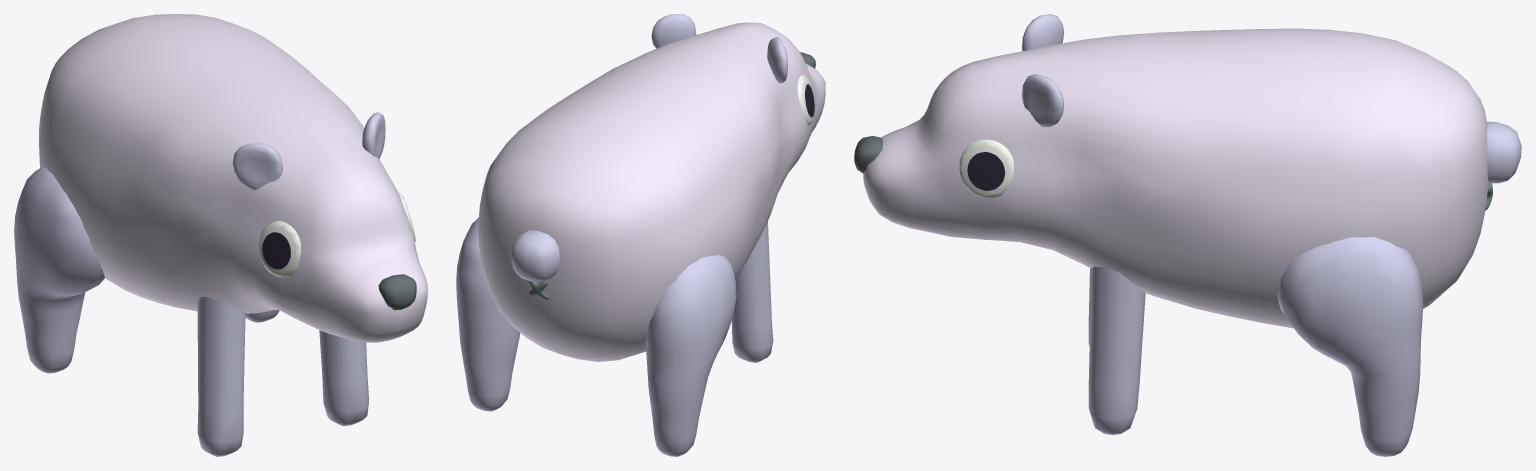
Rendered from polarbear.glb.
3 renders of one model, left to right at view 1: azimuth 30°, elevation 25°; view 2: azimuth 150°, elevation 25°; view 3: azimuth 270°, elevation 25°, orthographic. The views are drawn at different scales.
Visible parts, largest first — view 1: PolarBear_LOD0; view 2: PolarBear_LOD0; view 3: PolarBear_LOD0.
Part boxes in pixels (<box>): PolarBear_LOD0: <box>14,14,427,456</box>; PolarBear_LOD0: <box>456,14,825,456</box>; PolarBear_LOD0: <box>854,14,1521,456</box>.
Bounding box in the file's own units: 181 × 206 × 350.
1 material, 1 textured.
